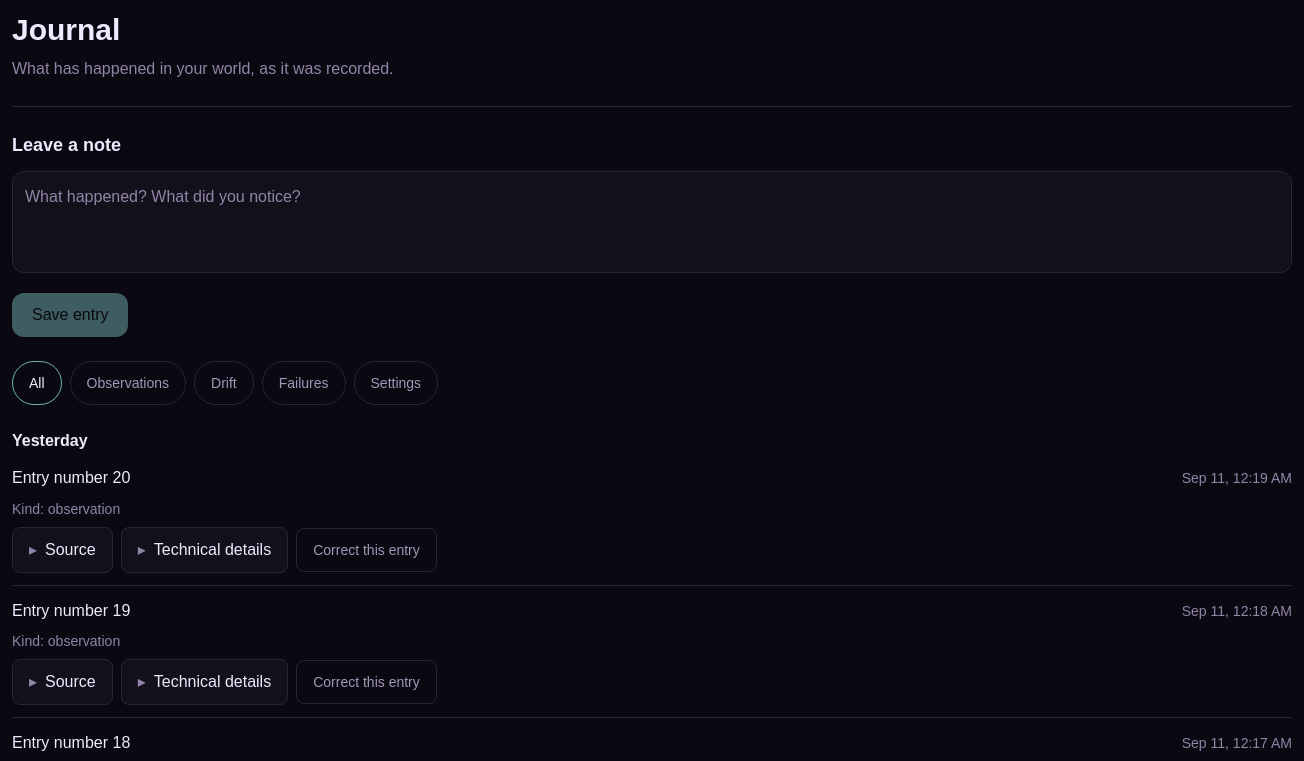
JournalScreen (T10, parity row 4) › provenance renders through Disclosure Source + technical details
The image size is (1304, 761).
What coordinates should you click on to do the following:
click the text "Source" below "Entry number 20"
I would click on:
 (70, 550)
Its box is [45,537,96,562].
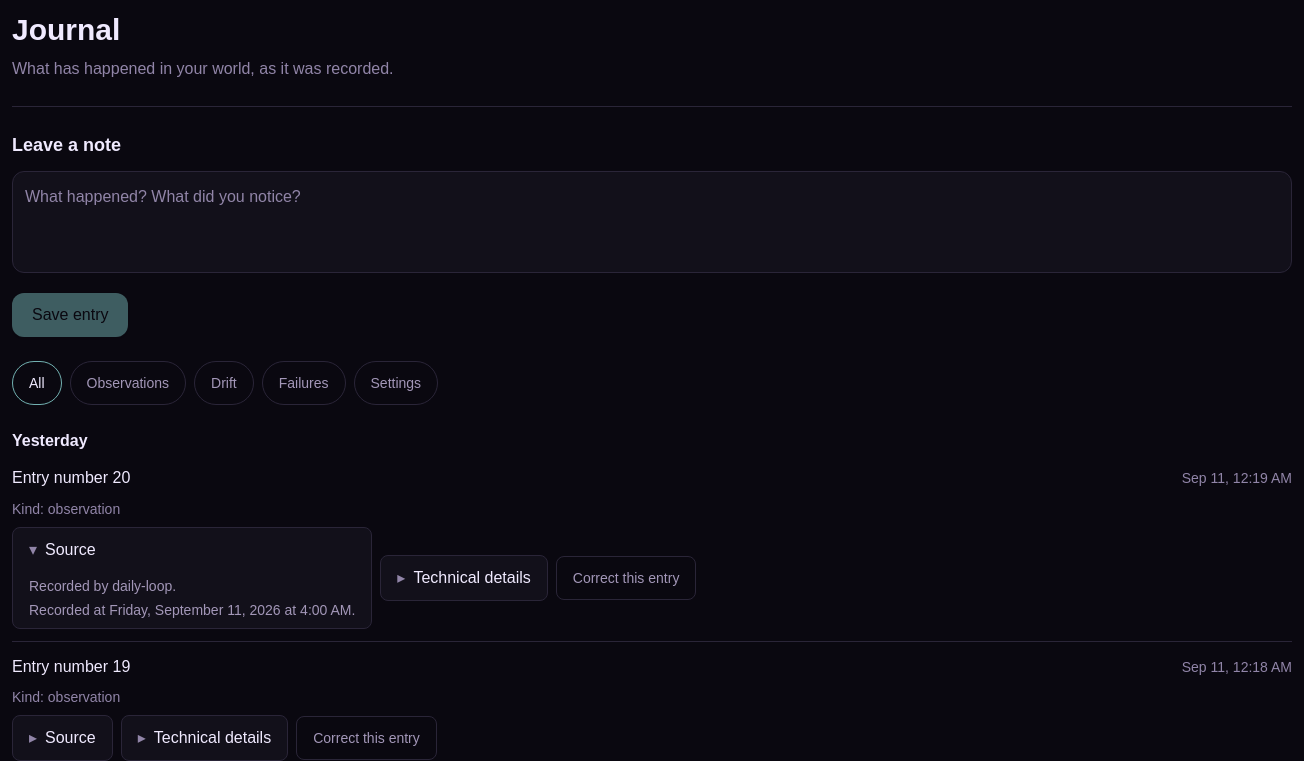
Check: the text "Recorded by daily-loop." is shown, box [29,578,176,594]
What coordinates should you click on to do the following:
click the text "Technical details" in the row of "daily-loop"
I would click on:
 (472, 578)
Its box is [413,565,531,590].
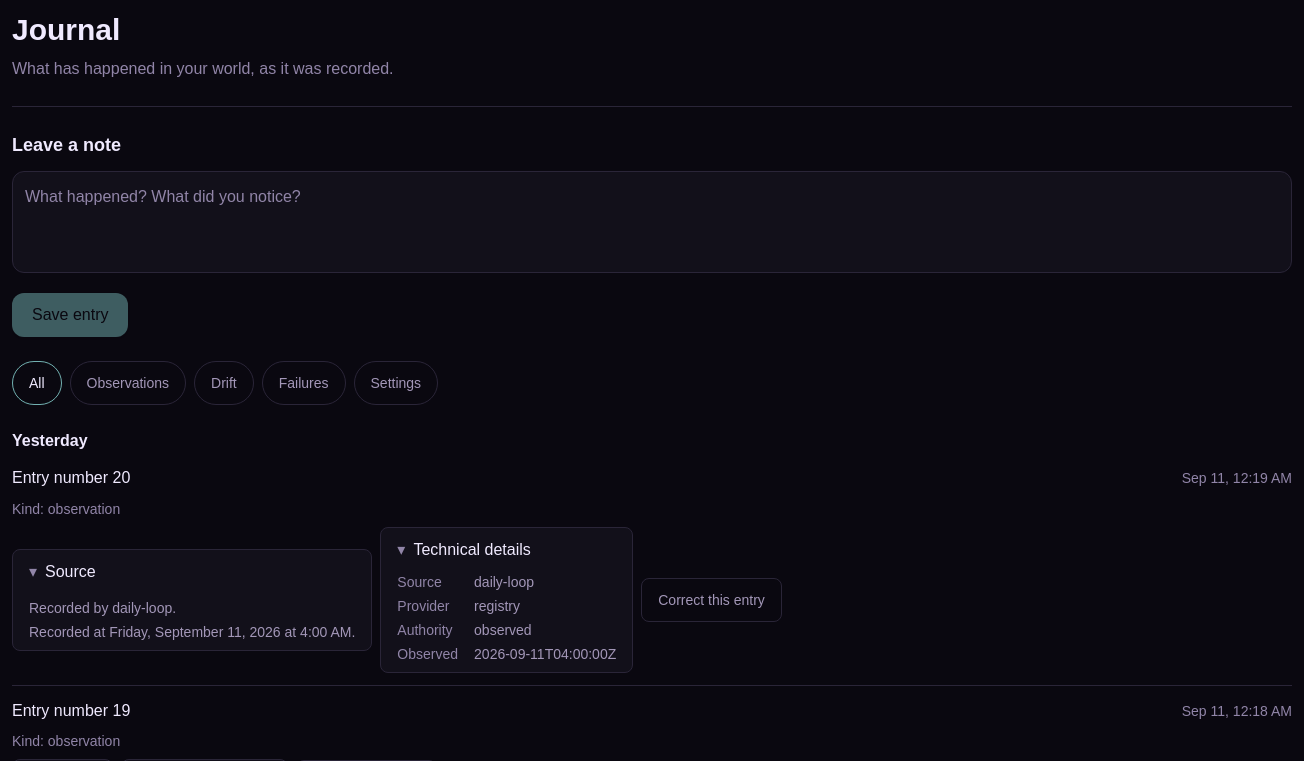
Check: the text "Authority" is shown, box [397,620,458,640]
Check: the text "observed" is shown, box [474,622,532,638]
